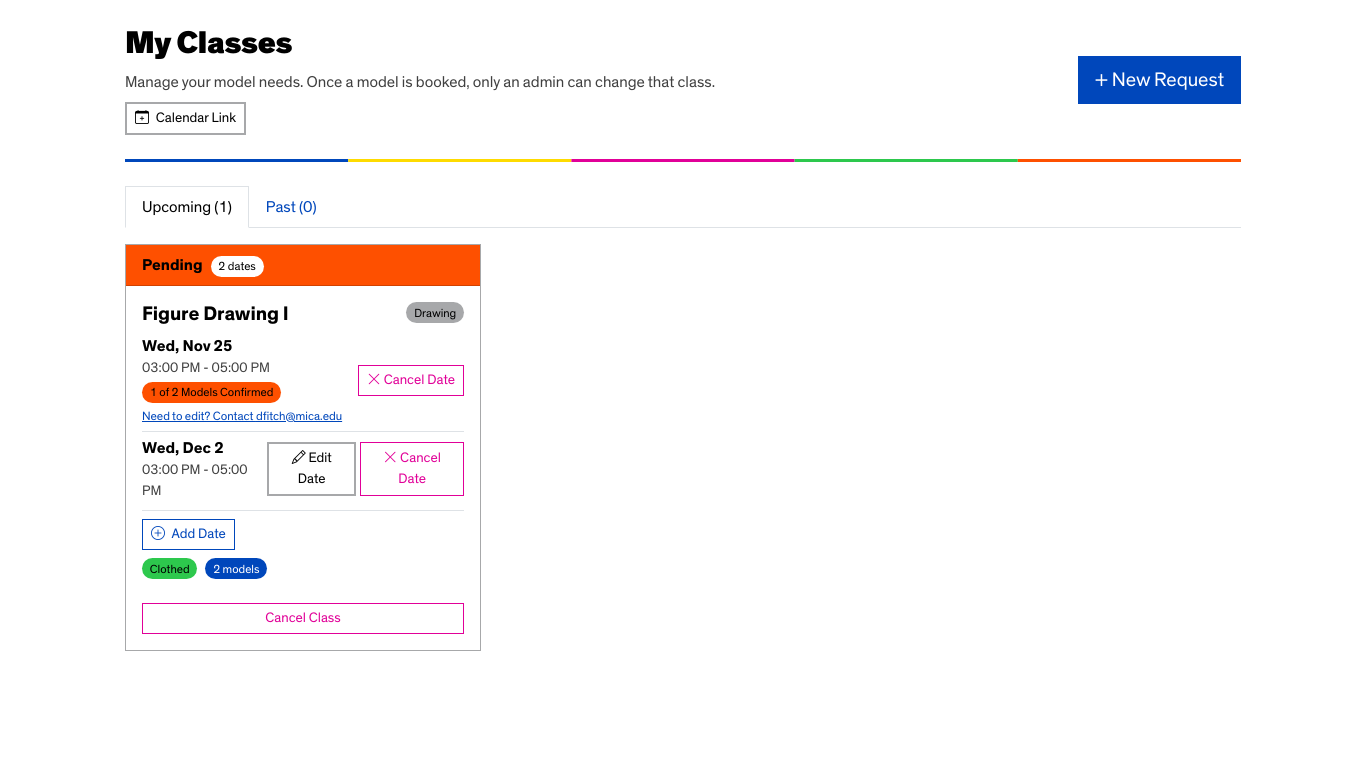
FacultyDashboard › edits just the day and times of one date
Later steps or results of the test are not shown.
Click the button "Edit Date" at (312, 469), box [267,442,356,496]
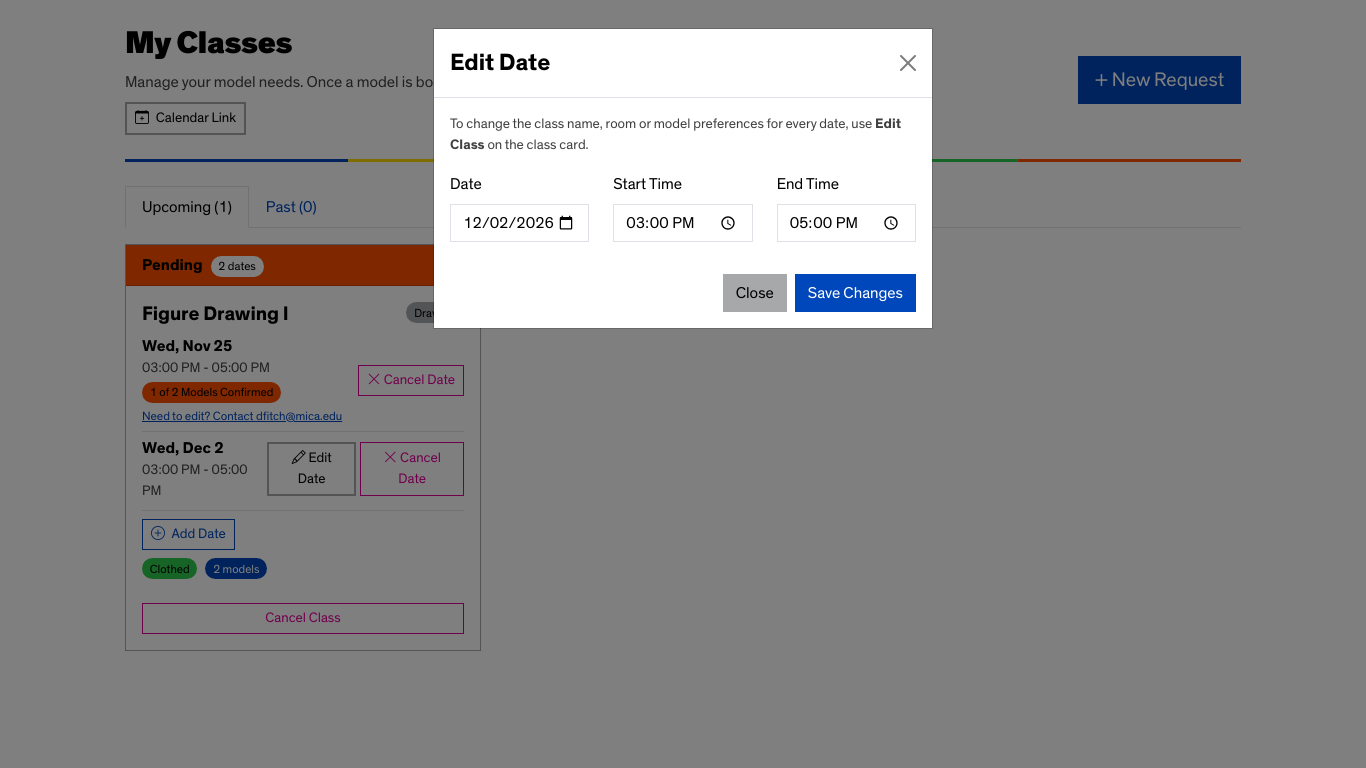
Expected: the date field labelled "Date" is shown, [450,204,589,242]
Expected: the time field labelled "Start Time" is shown, [613,204,753,242]
Expected: the time field labelled "End Time" is shown, [777,204,916,242]
